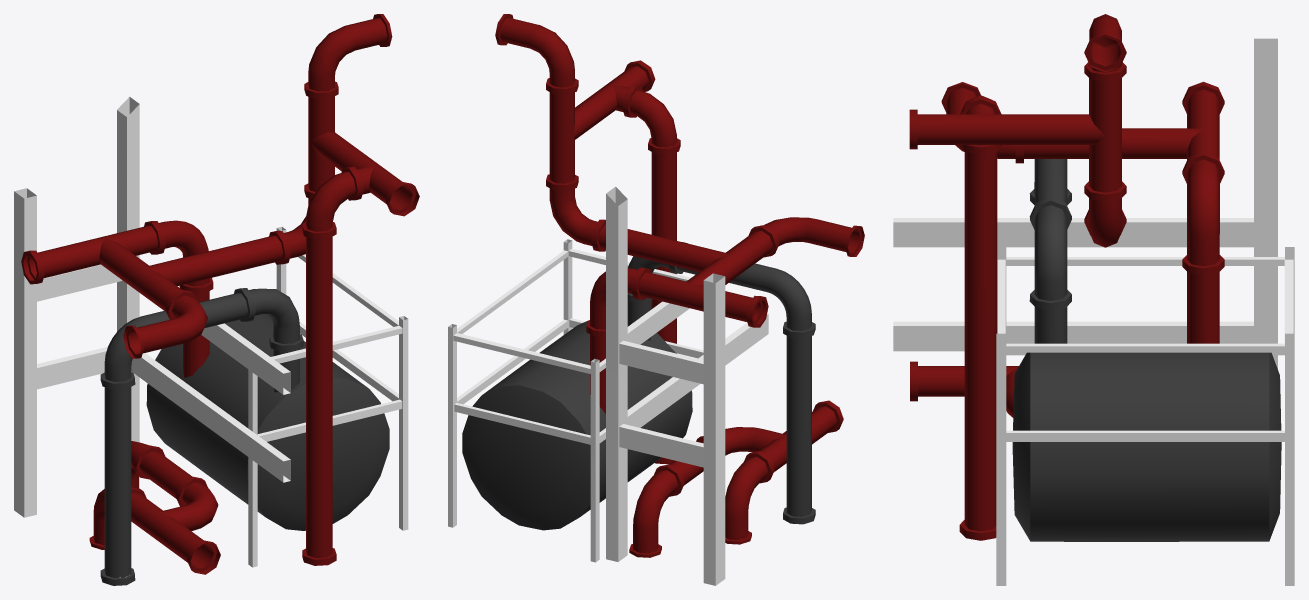
Rendered from SM_H_Building_Tide_WardenBoxroom_14_ATLAS.fbx.
3 views of the same model, side by side, from view 1: azimuth 30°, elevation 25°; view 2: azimuth 150°, elevation 25°; view 3: azimuth 270°, elevation 25° (orthographic). The views are drawn at different scales.
Visible parts, largest first — view 1: SM_H_Building_Tide_WardenBoxroom_14_ATLAS; view 2: SM_H_Building_Tide_WardenBoxroom_14_ATLAS; view 3: SM_H_Building_Tide_WardenBoxroom_14_ATLAS.
Boxes of the visible parts, <box> form: SM_H_Building_Tide_WardenBoxroom_14_ATLAS: <box>14,14,419,585</box>; SM_H_Building_Tide_WardenBoxroom_14_ATLAS: <box>448,14,864,585</box>; SM_H_Building_Tide_WardenBoxroom_14_ATLAS: <box>893,14,1294,585</box>.
Bounding box in the file's own units: 385 × 363 × 564.
